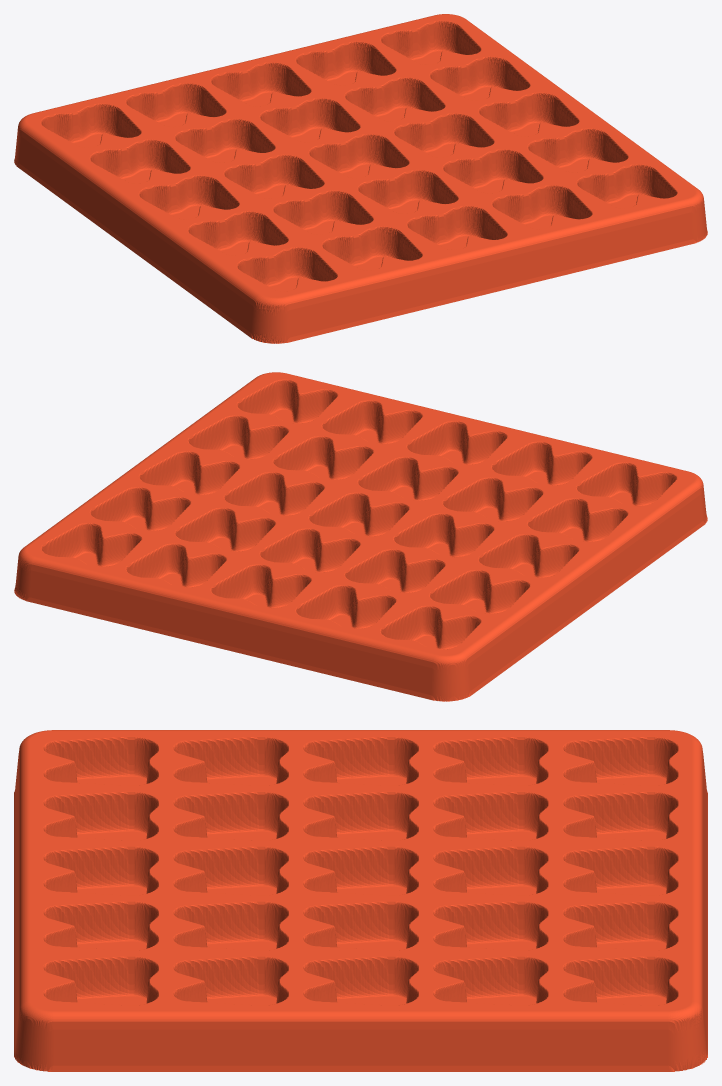
The model's file is mold.glb.
The picture shows the model from 3 angles, top to bottom: view 1: azimuth 30°, elevation 25°; view 2: azimuth 150°, elevation 25°; view 3: azimuth 270°, elevation 25°; orthographic projection. The views are drawn at different scales.
Visible parts, largest first — view 1: geometry_0; view 2: geometry_0; view 3: geometry_0.
Boxes of the visible parts, x1,y1,x2,y2 form: geometry_0: (14,14,707,343); geometry_0: (14,372,707,701); geometry_0: (14,730,707,1071).
Size of the model in its own units: 0.1584 by 0.0136 by 0.1584.
